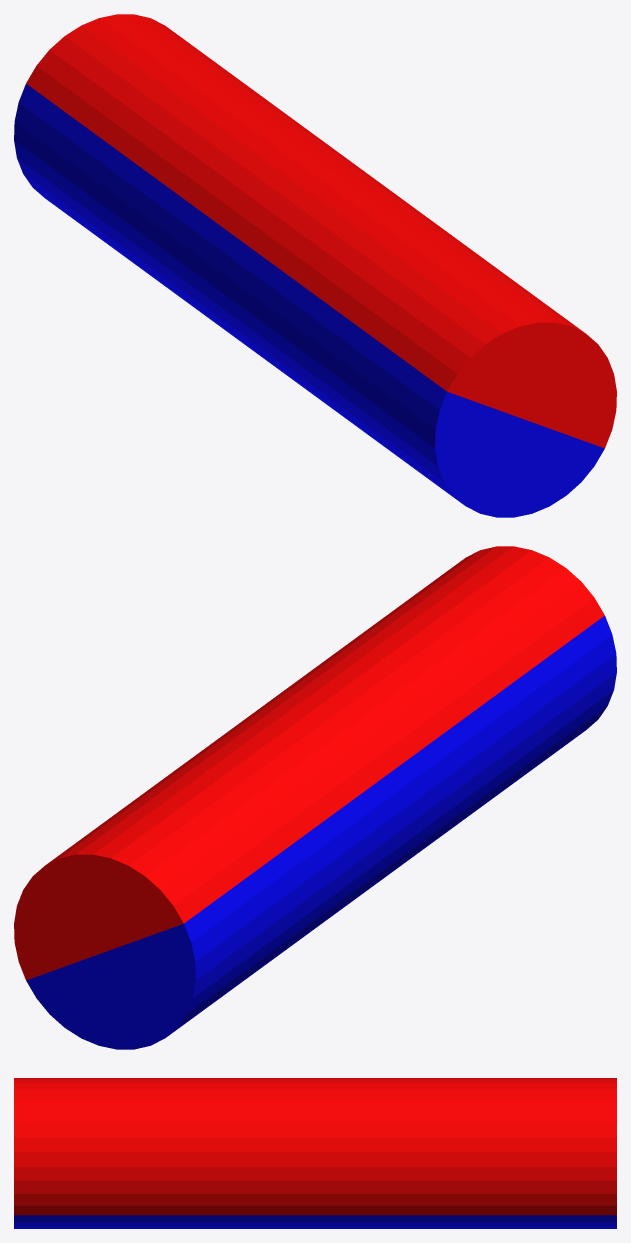
Rendered from DCblRotor.glb.
3 renders of one model, top to bottom at view 1: azimuth 30°, elevation 25°; view 2: azimuth 150°, elevation 25°; view 3: azimuth 270°, elevation 25°, orthographic. The views are drawn at different scales.
Visible parts, largest first — view 1: 円柱; view 2: 円柱; view 3: 円柱.
Part boxes in pixels (x1,y1,x2,y2): 円柱: (14, 14, 616, 517); 円柱: (14, 546, 616, 1049); 円柱: (14, 1078, 616, 1228).
Size of the model in its own units: 0.9979 by 0.9979 by 4.
